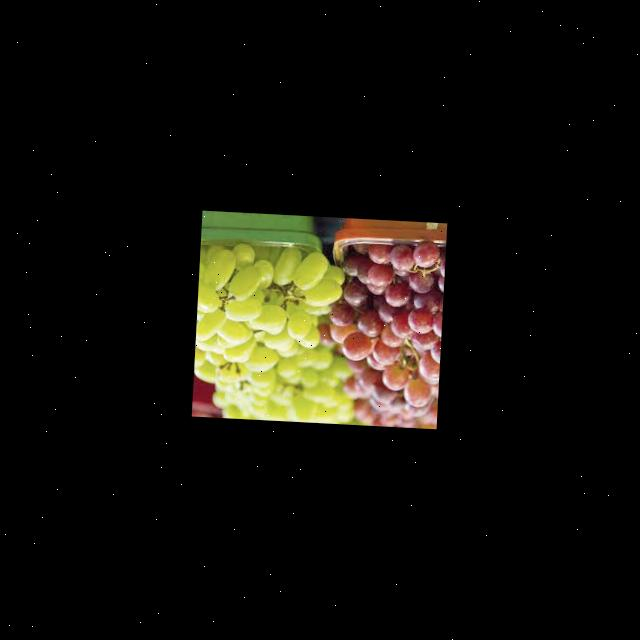grape: (315, 237, 446, 429), (200, 239, 345, 379)
